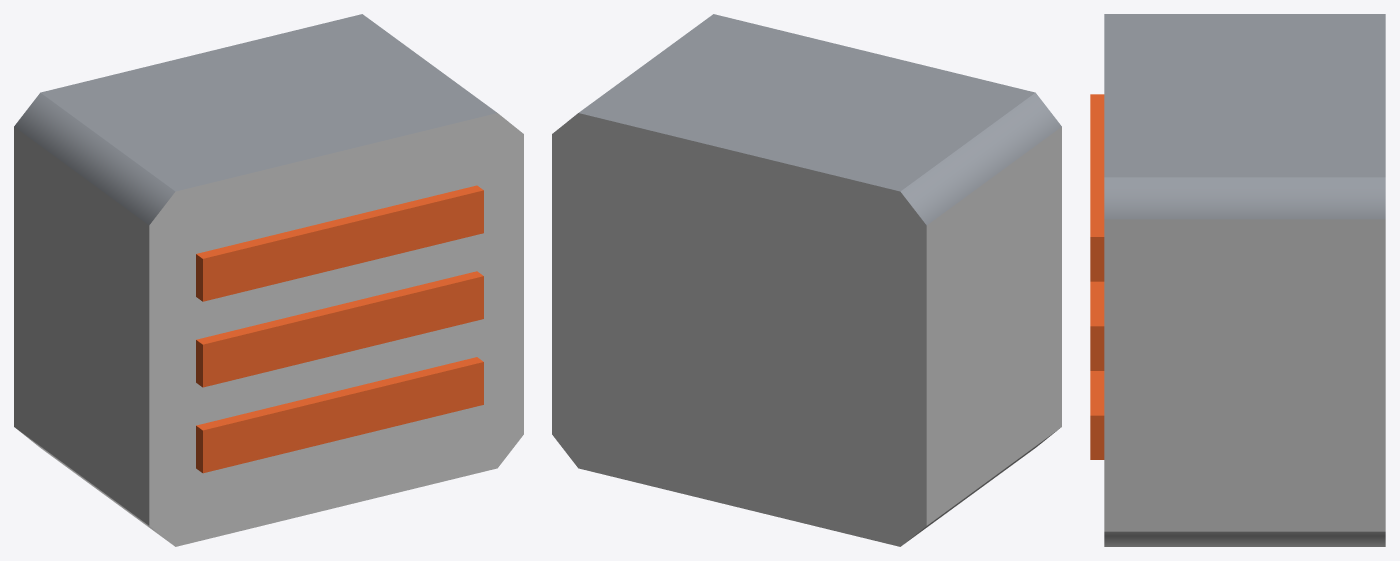
The model's file is heater.obj.
3 renders of one model, left to right at view 1: azimuth 30°, elevation 25°; view 2: azimuth 150°, elevation 25°; view 3: azimuth 270°, elevation 25°, orthographic. The views are drawn at different scales.
Parts seen in each view (by area): view 1: heater_body, upper_ember_slot, lower_ember_slot, middle_ember_slot; view 2: heater_body; view 3: heater_body, upper_ember_slot, middle_ember_slot, lower_ember_slot.
Boxes of the visible parts, x1=… form: heater_body: x1=14, y1=14, x2=523, y2=546; upper_ember_slot: x1=196, y1=185, x2=483, y2=301; lower_ember_slot: x1=196, y1=357, x2=483, y2=473; middle_ember_slot: x1=196, y1=271, x2=483, y2=387; heater_body: x1=552, y1=14, x2=1061, y2=546; heater_body: x1=1104, y1=14, x2=1385, y2=546; upper_ember_slot: x1=1090, y1=94, x2=1104, y2=281; middle_ember_slot: x1=1090, y1=281, x2=1104, y2=370; lower_ember_slot: x1=1090, y1=371, x2=1104, y2=459.
Bounding box in the file's own units: 0.64 × 0.58 × 0.42.
